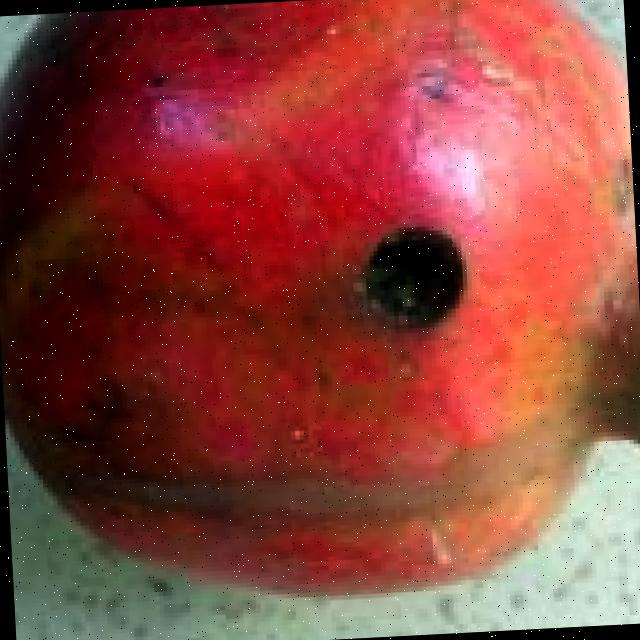Bad_Pomegranate-0-1-day: (0, 0, 640, 603)
